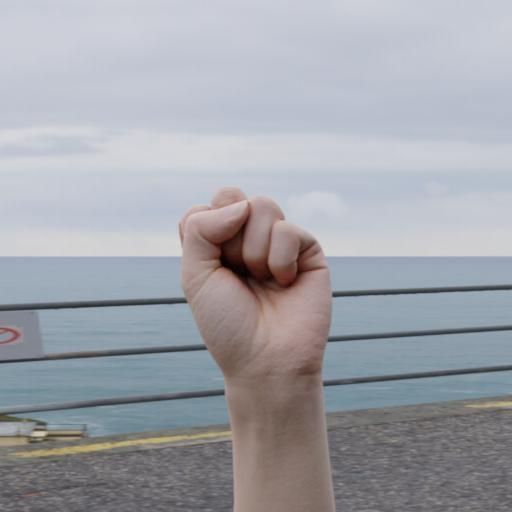S: (163, 172, 344, 497)
